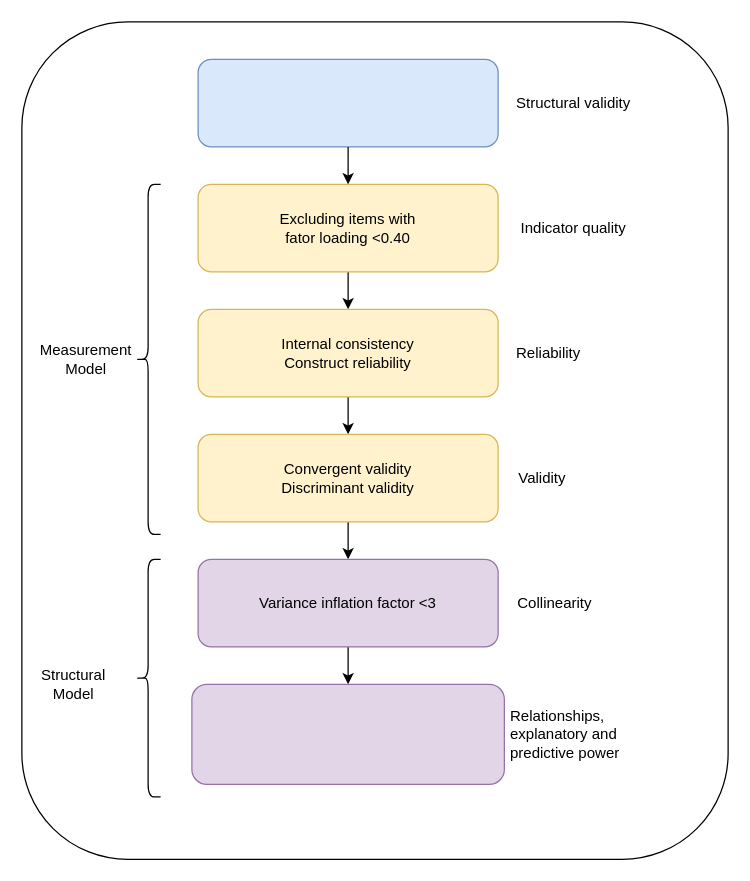
This 750x881 diagram has some shape labels left out. The shapes that lost their labels are listed below. From the top down, each one's box as (x1, y1, x2, y2) in pixels, then its label:
(197, 58, 498, 147): Exploratory structural equation modeling
(191, 683, 504, 784): Significant path coefficent significant total effect Adjusted R 2 PLS (predict)
